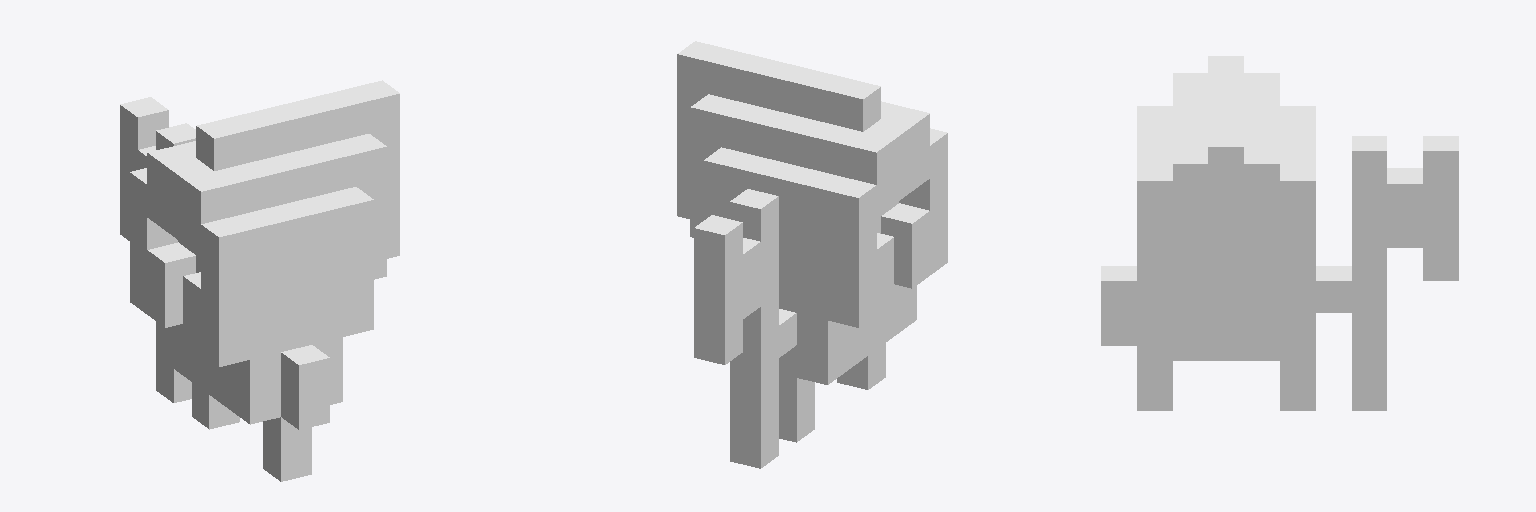
Rendered from Player.obj.
3 renders of one model, left to right at view 1: azimuth 30°, elevation 25°; view 2: azimuth 150°, elevation 25°; view 3: azimuth 270°, elevation 25°, orthographic.
Parts seen in each view (by area): view 1: object 1; view 2: object 1; view 3: object 1.
Part boxes in pixels (bbox=[...]): object 1: bbox=[120, 80, 399, 481]; object 1: bbox=[677, 41, 947, 468]; object 1: bbox=[1101, 56, 1458, 410].
Size of the model in its own units: 0.7 by 1 by 1.